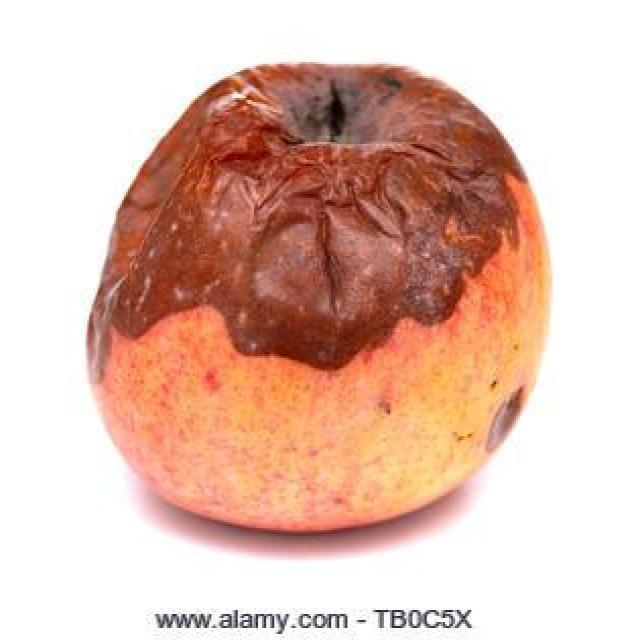Apple: (82, 47, 545, 548)
